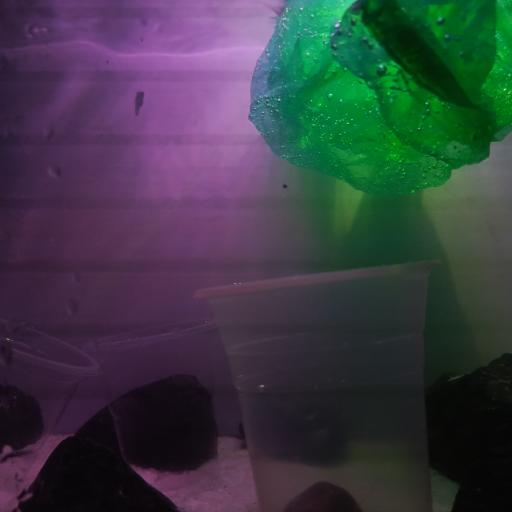plastic_bag: (246, 0, 511, 203)
plastic_cup: (190, 255, 444, 512), (84, 317, 219, 502), (0, 317, 102, 498)
